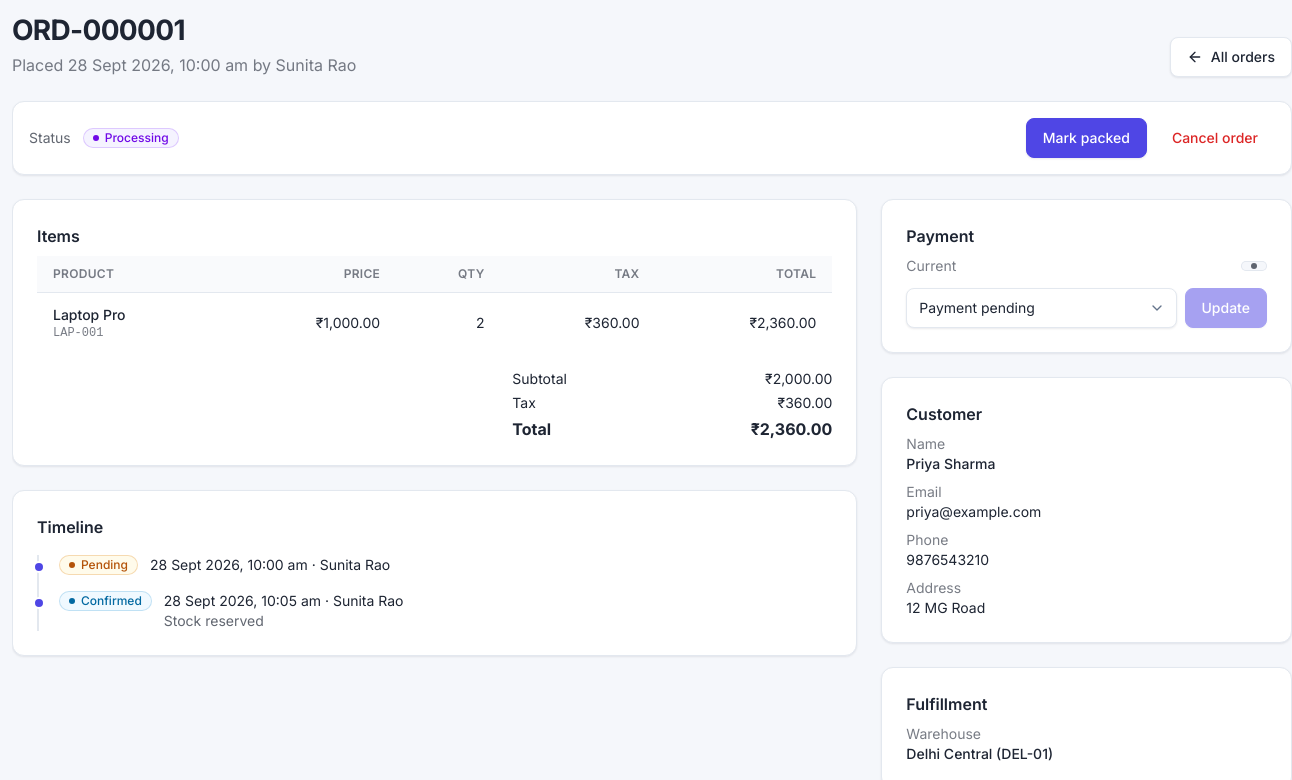
it: OrderDetailPage › a refused step shows the server's message under the buttons
This screenshot has width=1292, height=780.
What coordinates should you click on to do the following:
click the button with aria-label "Mark packed ORD-000001"
I would click on:
 (1086, 138)
Its box is top-left (1026, 118), bottom-right (1147, 158).
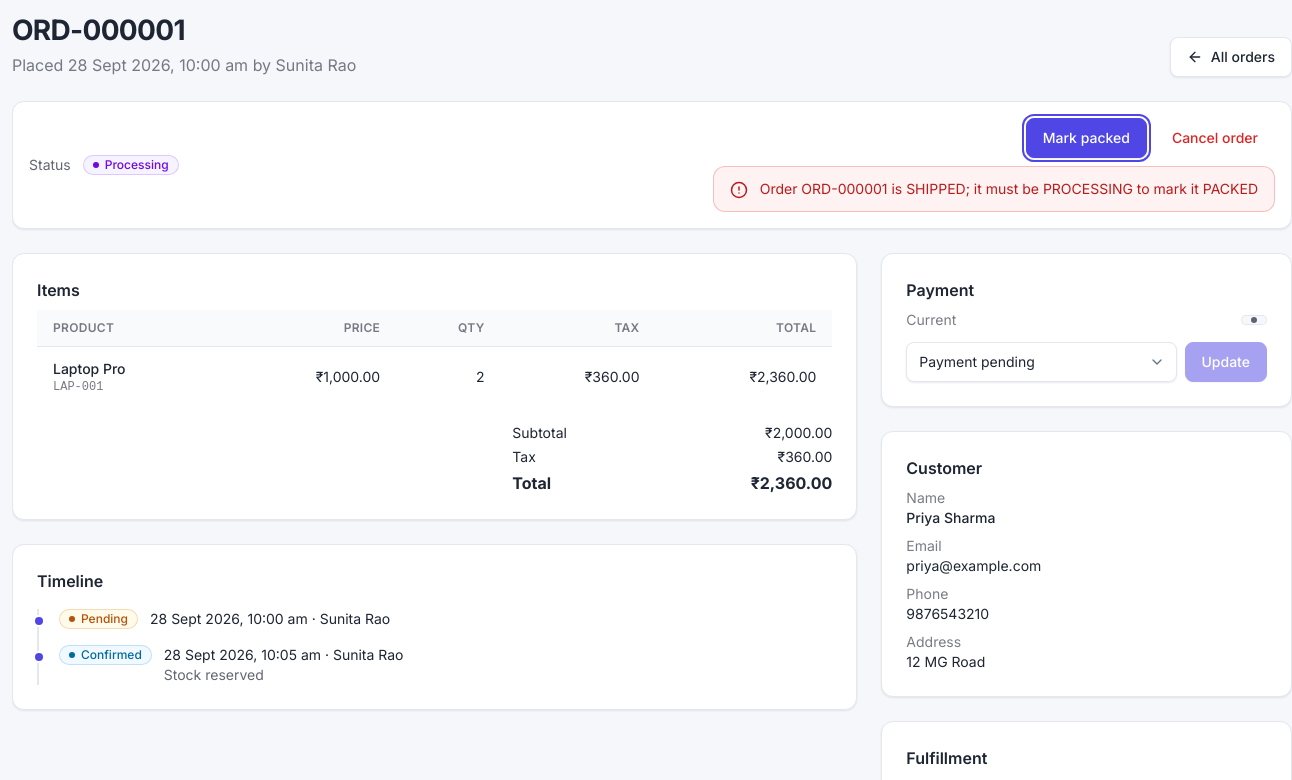
expect the text "it must be PROCESSING to mark it PACKED" is shown: met, box top-left (760, 180), bottom-right (1258, 197)
